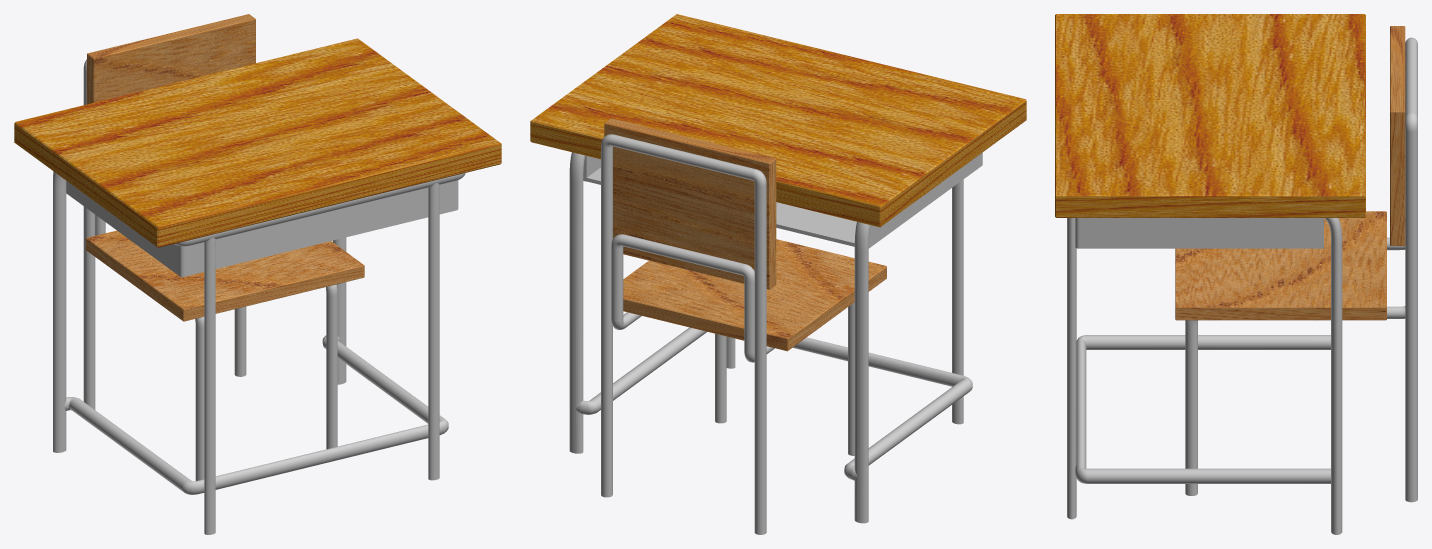
The model's file is deskandchar.fbx.
The picture shows the model from 3 angles, left to right: view 1: azimuth 30°, elevation 25°; view 2: azimuth 150°, elevation 25°; view 3: azimuth 270°, elevation 25°; orthographic projection. The views are drawn at different scales.
Parts seen in each view (by area): view 1: pCylinder19, pCube1, pCube2, pCylinder16, pCylinder18; view 2: pCylinder19, pCube2, pCube1, pCylinder18, pCylinder16; view 3: pCylinder19, pCube1, pCylinder18, pCube2, pCylinder16.
Part boxes in pixels (box(x1,y1,x2,y2)): pCylinder19: box(14, 38, 501, 534); pCube1: box(86, 230, 364, 321); pCube2: box(87, 14, 255, 104); pCylinder16: box(95, 215, 337, 480); pCylinder18: box(83, 59, 246, 409); pCylinder19: box(530, 14, 1026, 523); pCube2: box(604, 118, 776, 289); pCube1: box(623, 239, 886, 351); pCylinder18: box(601, 134, 766, 534); pCylinder16: box(611, 234, 854, 455); pCylinder19: box(1055, 14, 1365, 534); pCube1: box(1175, 211, 1386, 320); pCylinder18: box(1405, 37, 1417, 502); pCube2: box(1390, 26, 1405, 245); pCylinder16: box(1185, 237, 1405, 495).
Size of the model in its own units: 3.69 by 3.7 by 3.11.
